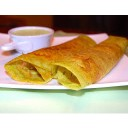dosa: (10, 38, 128, 87)
